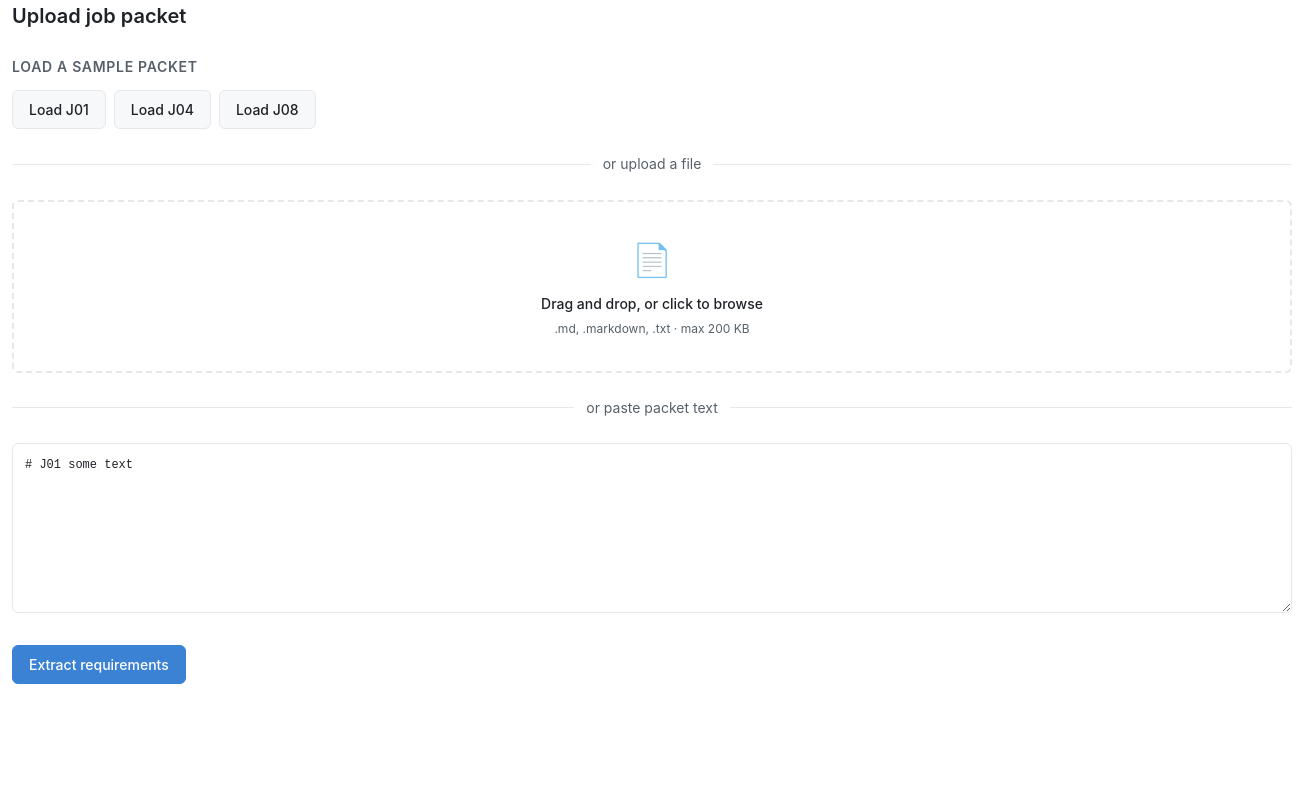
Test: UploadScreen › shows HTTP error message for http errors
What coordinates should you click on to do the following:
click the button "Extract requirements"
I would click on:
 (99, 664)
Its box is [12,644,186,684].
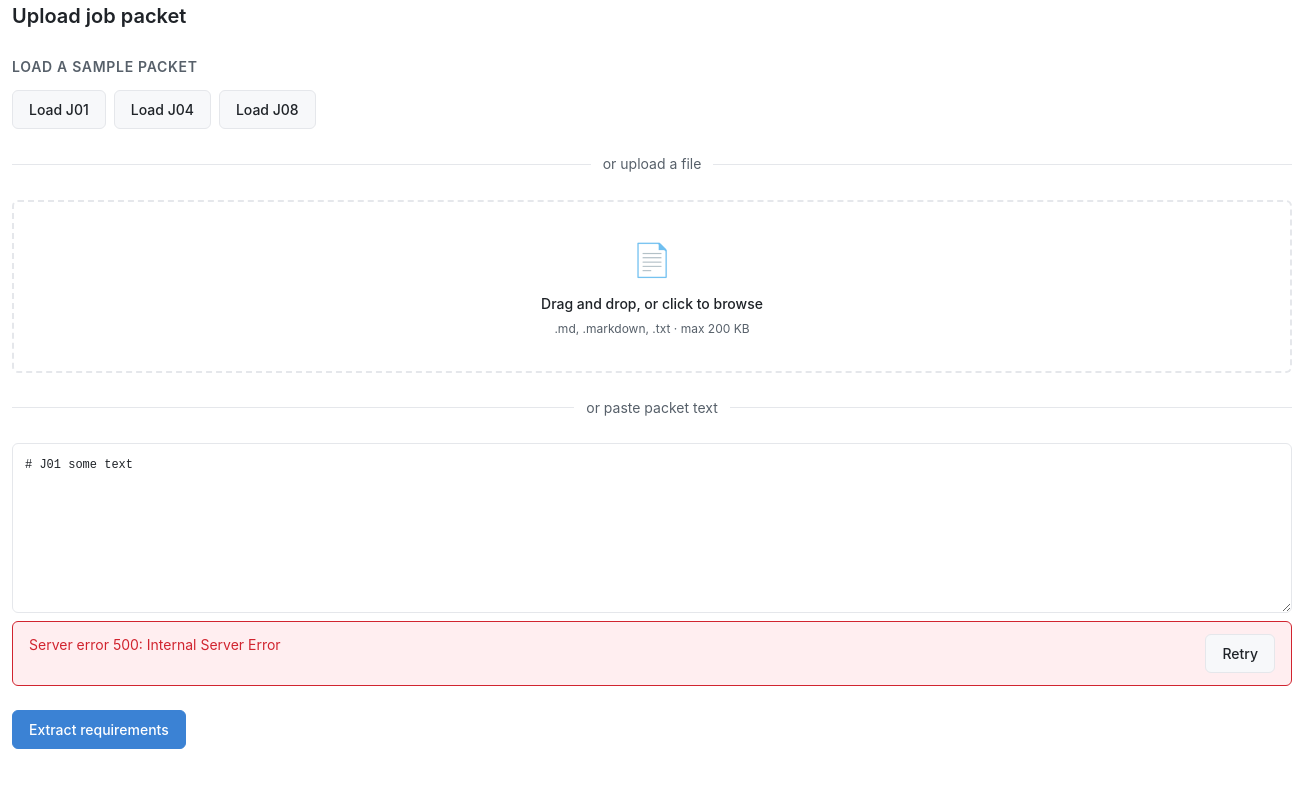
Check: the text "Server error 500: Internal Server Error" is shown, box [29,636,281,652]
